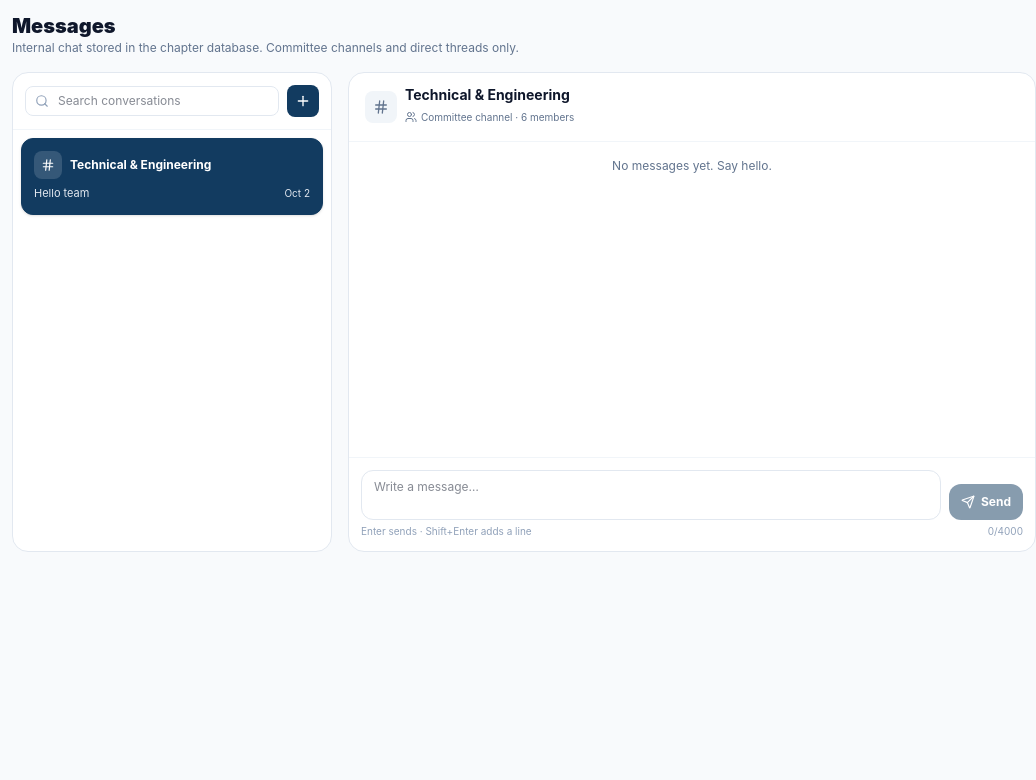
Test: a member with no committee peers › can still open the page and is told why the contact list is empty
Click the button named "New direct message" at point(303, 101), box [287, 85, 319, 117]
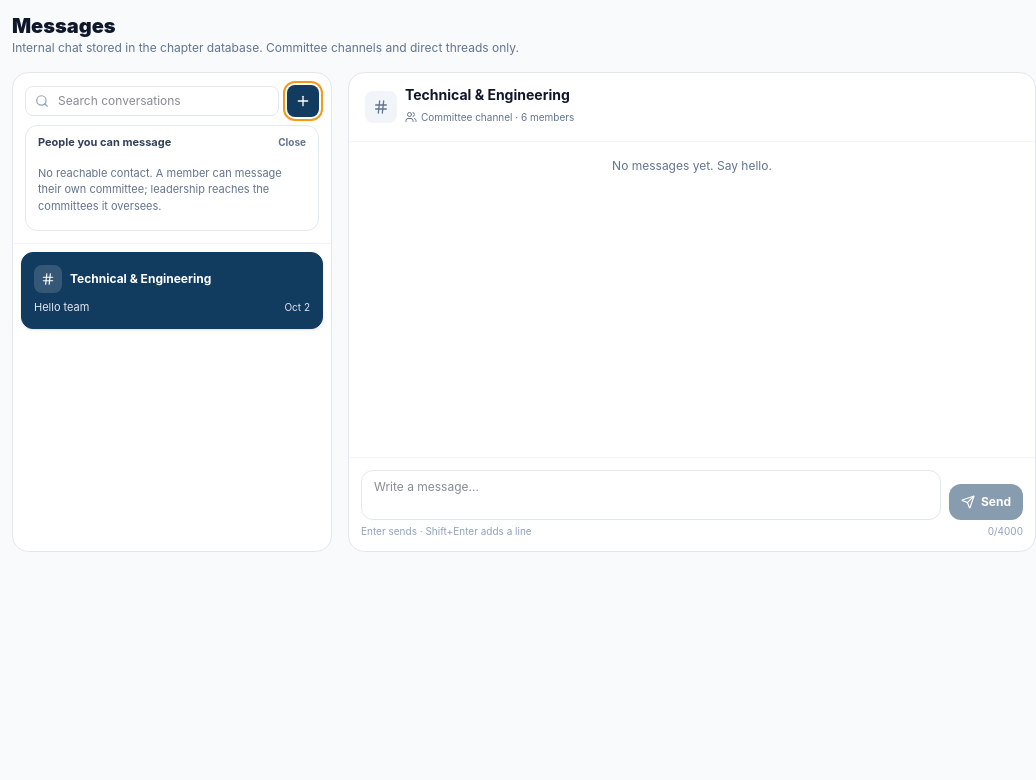
Check: the text "No reachable contact" is shown, box [38, 166, 282, 212]
Check: the text "People you can message" is shown, box [38, 134, 171, 150]
